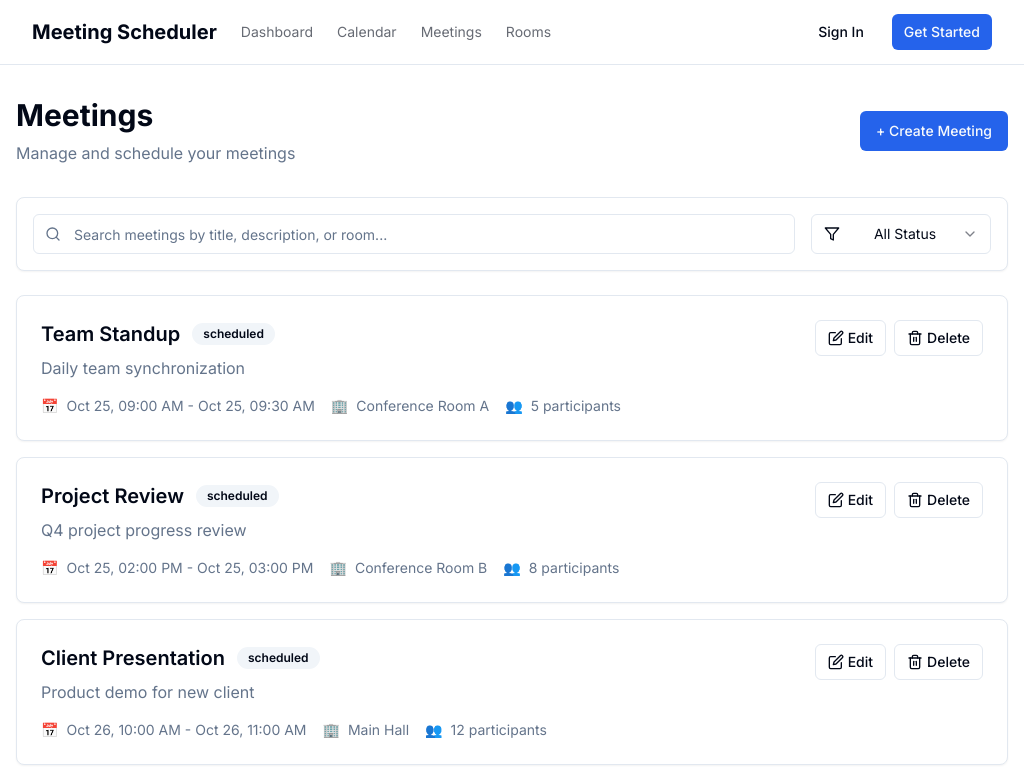
Test: MeetingsPage › opens create meeting form when button is clicked
Click the button "+ Create Meeting" at (934, 131), box 860,111 -> 1008,151
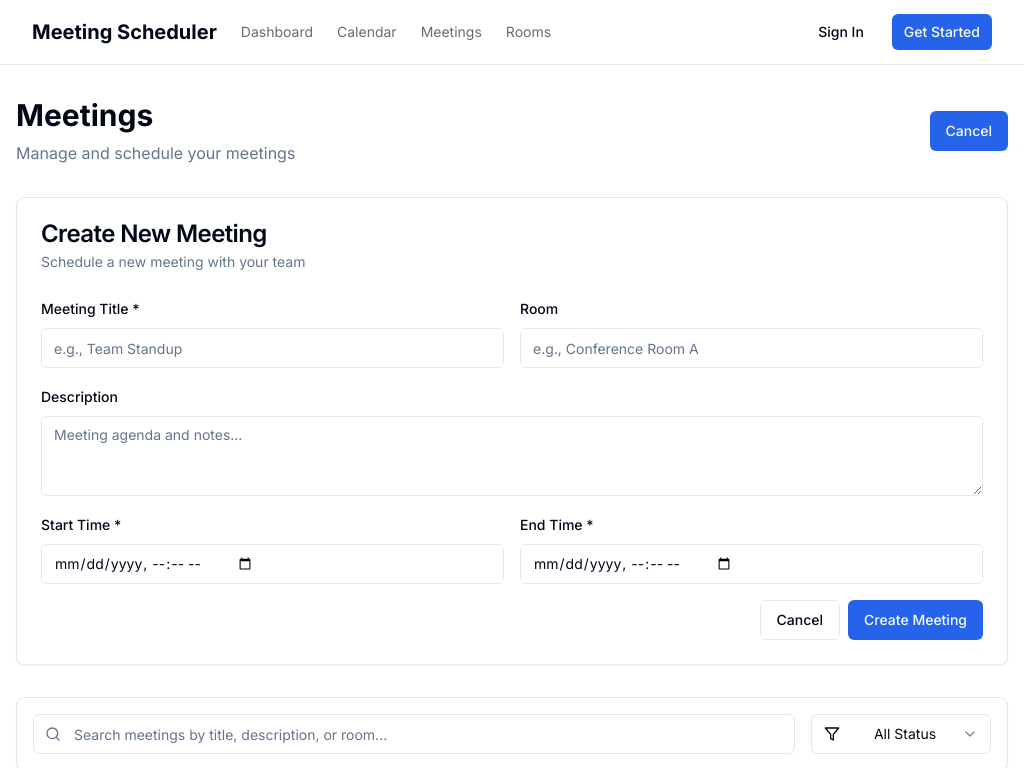
Expected: the heading "Create New Meeting" is shown, 41,219 -> 267,248
Expected: the field labelled "Meeting Title *" is shown, 41,328 -> 504,368
